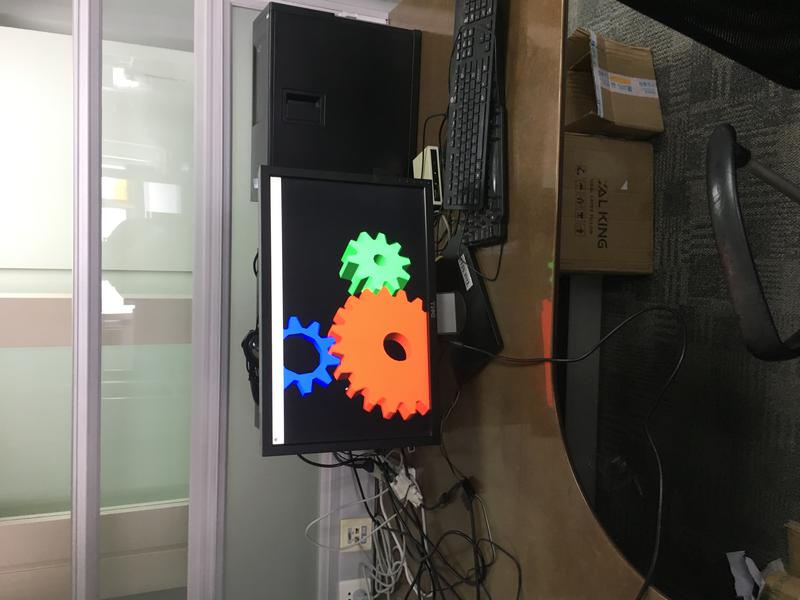glxgears_pass: (269, 205, 429, 436)
